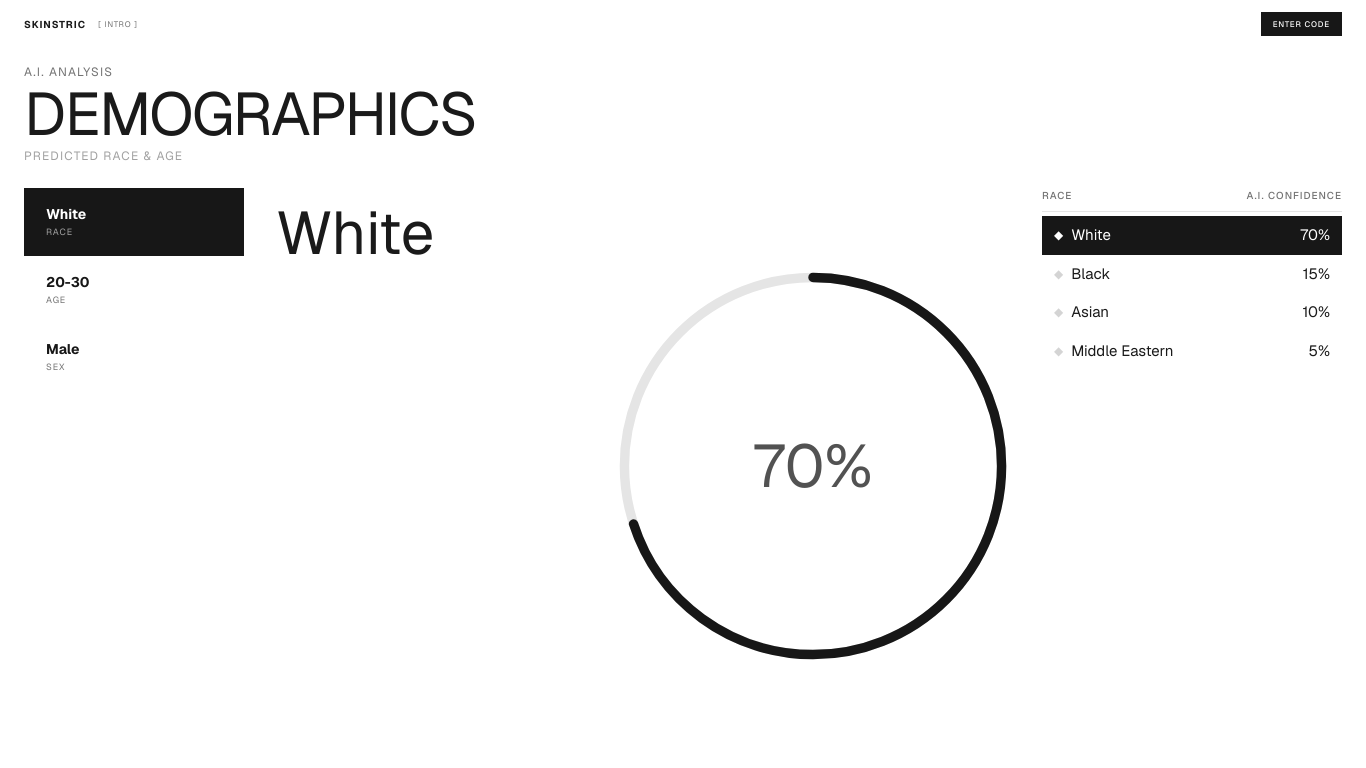
it: Summary Page › switches to gender category when Sex sidebar button is clicked
Click the text "Sex".
click(56, 367)  # box [46,361,66,373]
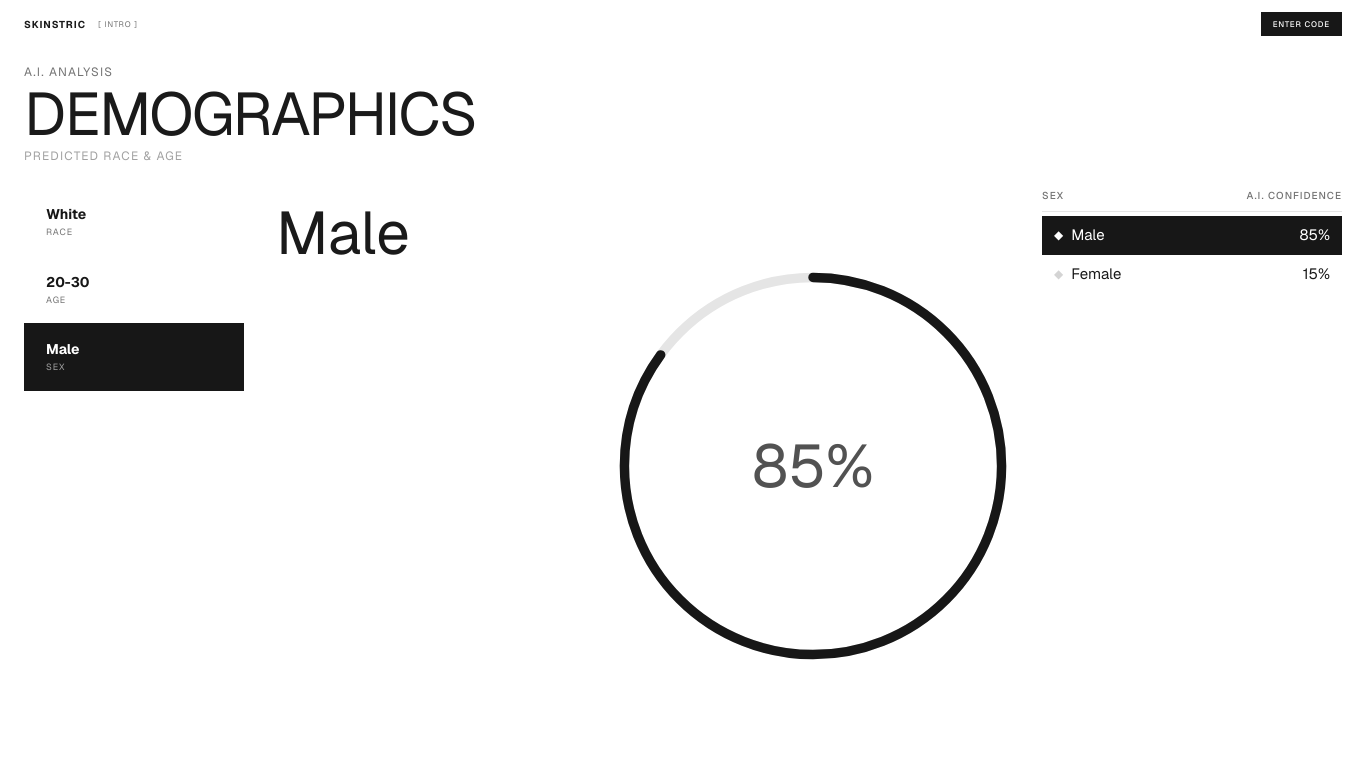
Expected: the 3rd text "Male" is shown, [46,340,80,358]
Result: the 2nd text "85%" is shown at [752,436,874,496]
